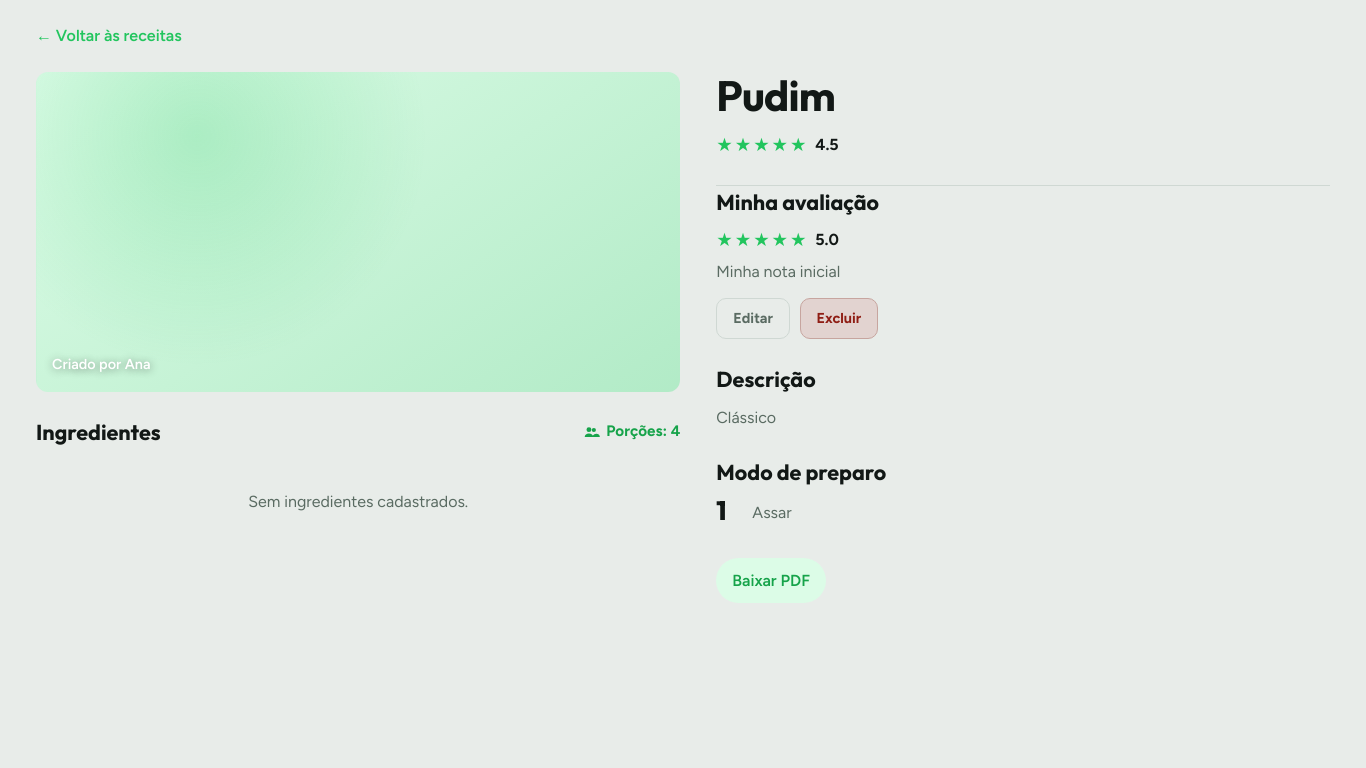
it: FN-UI-TASTER — avaliação no detalhe público › AC-04: TASTER exclui a própria review via DELETE após confirmação
Check: the heading "Pudim" is shown, box [716, 69, 835, 122]
What coordinates should you click on to do the following:
click the button "Excluir"
I would click on:
 (839, 318)
Its box is [800, 298, 878, 339].
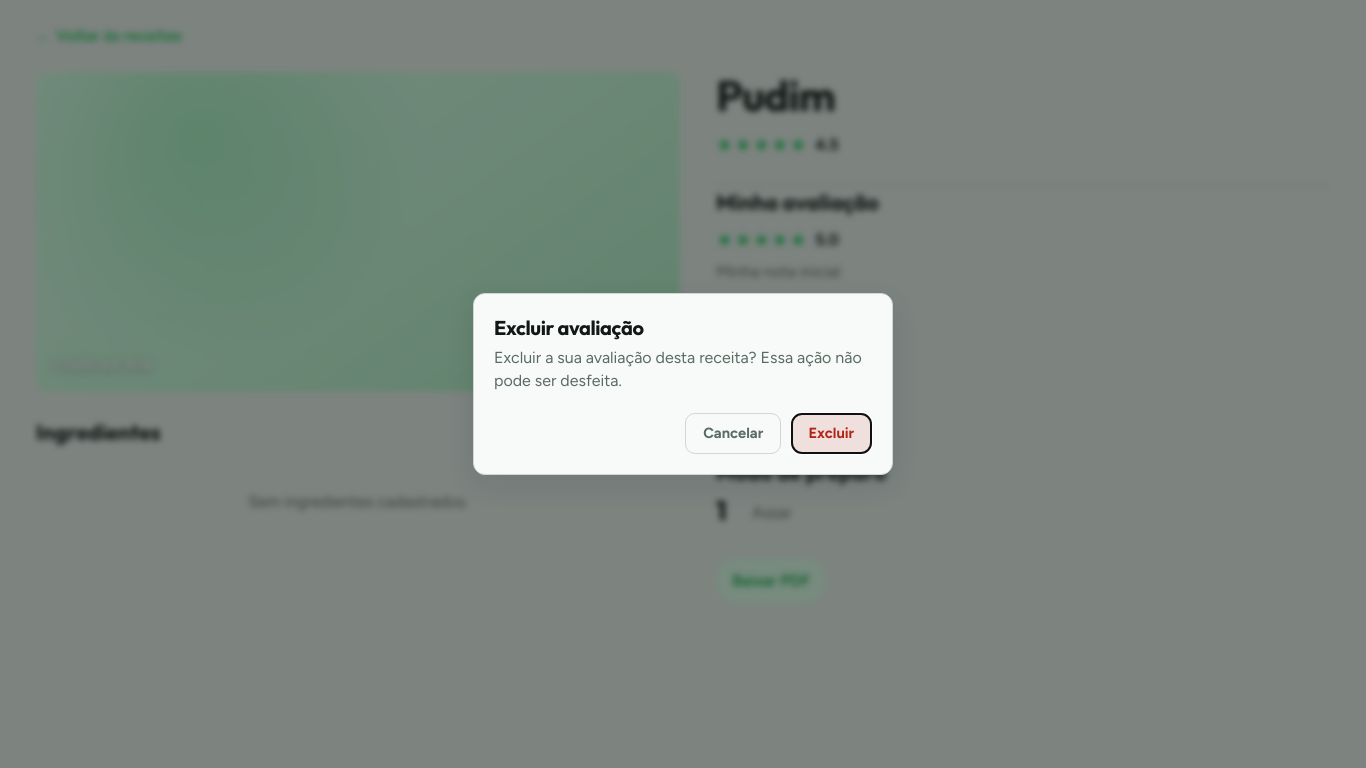
What coordinates should you click on to do the following:
click the button "Excluir"
I would click on:
 (831, 433)
Its box is [791, 413, 872, 454].
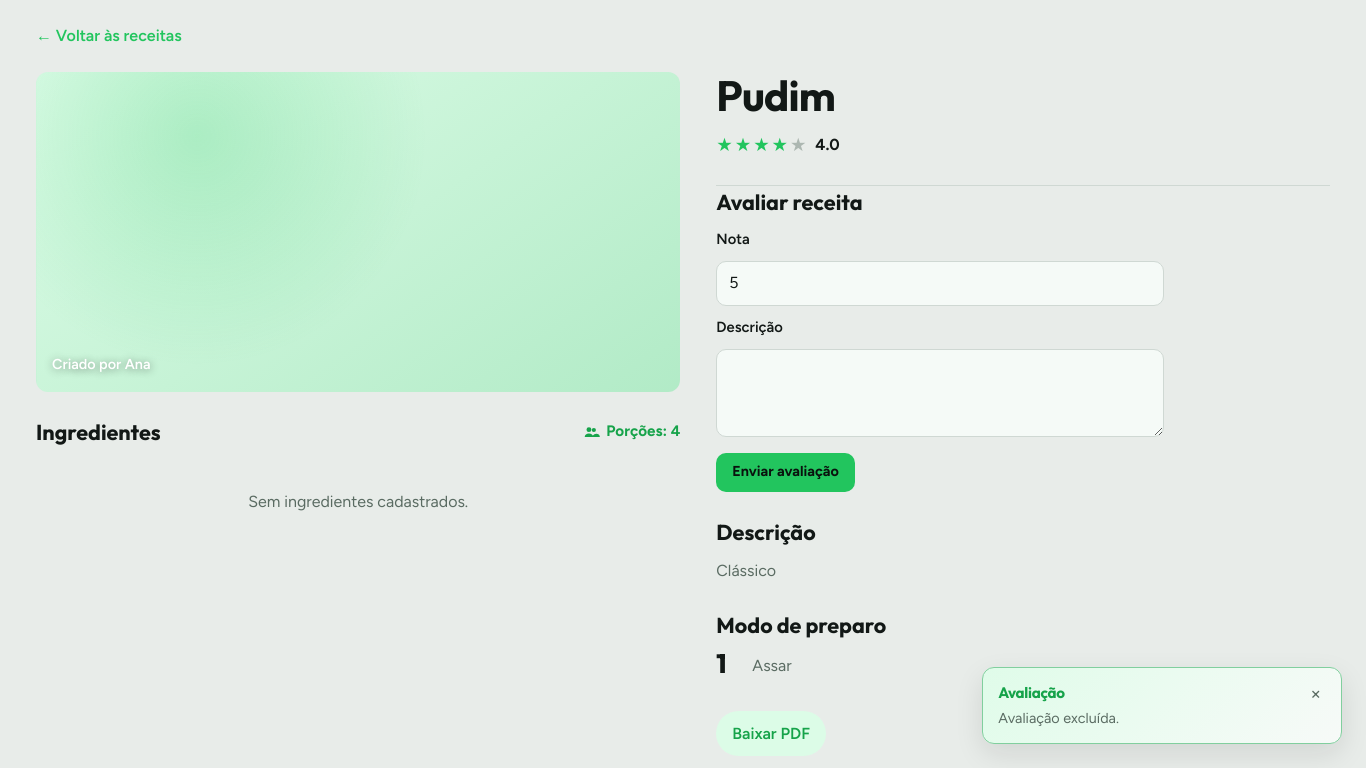
Check: the heading "Minha avaliação" is gone
Check: the button "Enviar avaliação" is shown, box [716, 453, 855, 492]
